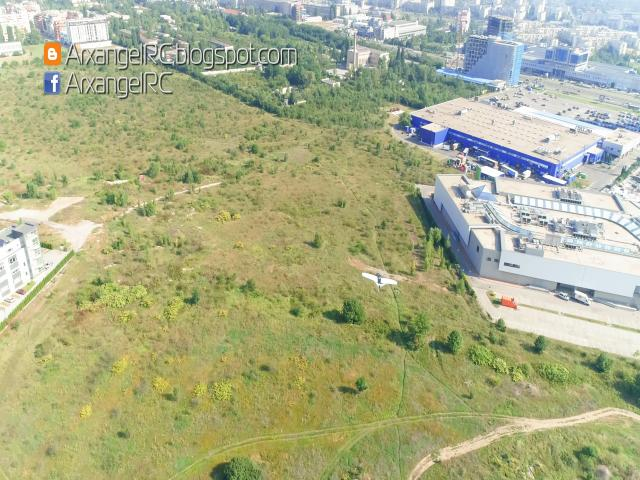plane: (362, 270, 398, 291)
